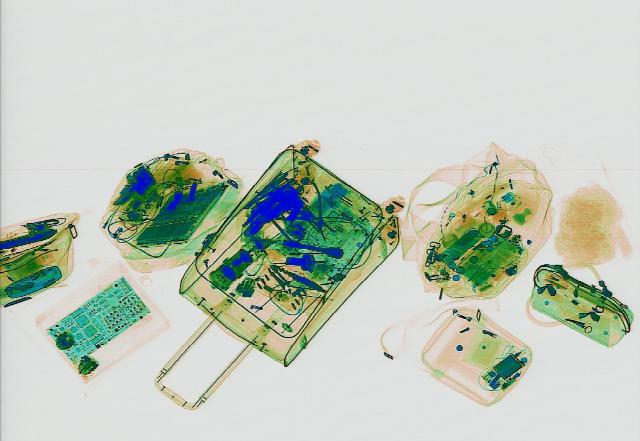Pliers: (252, 181, 364, 252)
